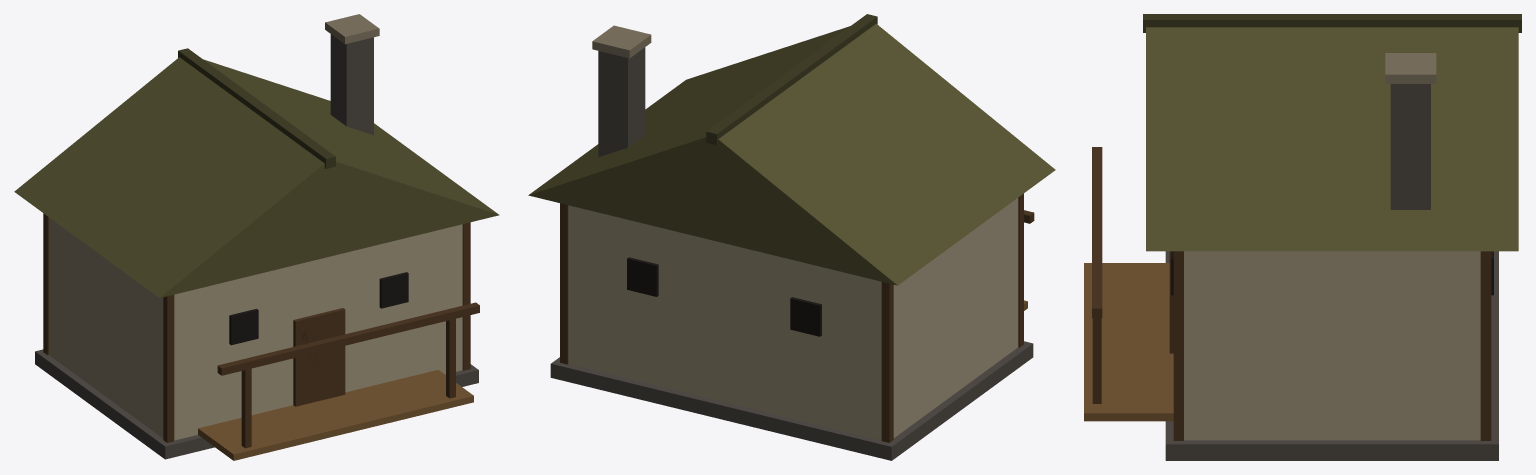
File: house_large.glb
The picture shows the model from 3 angles, left to right: view 1: azimuth 30°, elevation 25°; view 2: azimuth 150°, elevation 25°; view 3: azimuth 270°, elevation 25°; orthographic projection. The views are drawn at different scales.
Visible parts, largest first — view 1: house_large; view 2: house_large; view 3: house_large.
Part boxes in pixels (<box>): house_large: <box>14,14,499,460</box>; house_large: <box>528,14,1055,460</box>; house_large: <box>1084,14,1521,460</box>.
Size of the model in its own units: 7.7 by 6.38 by 6.7.
